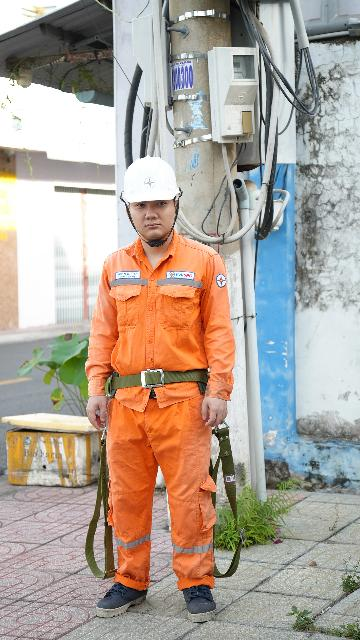harness: (95, 364, 222, 398)
helmet: (108, 153, 186, 207)
shoes: (82, 576, 158, 623), (175, 570, 228, 629)
